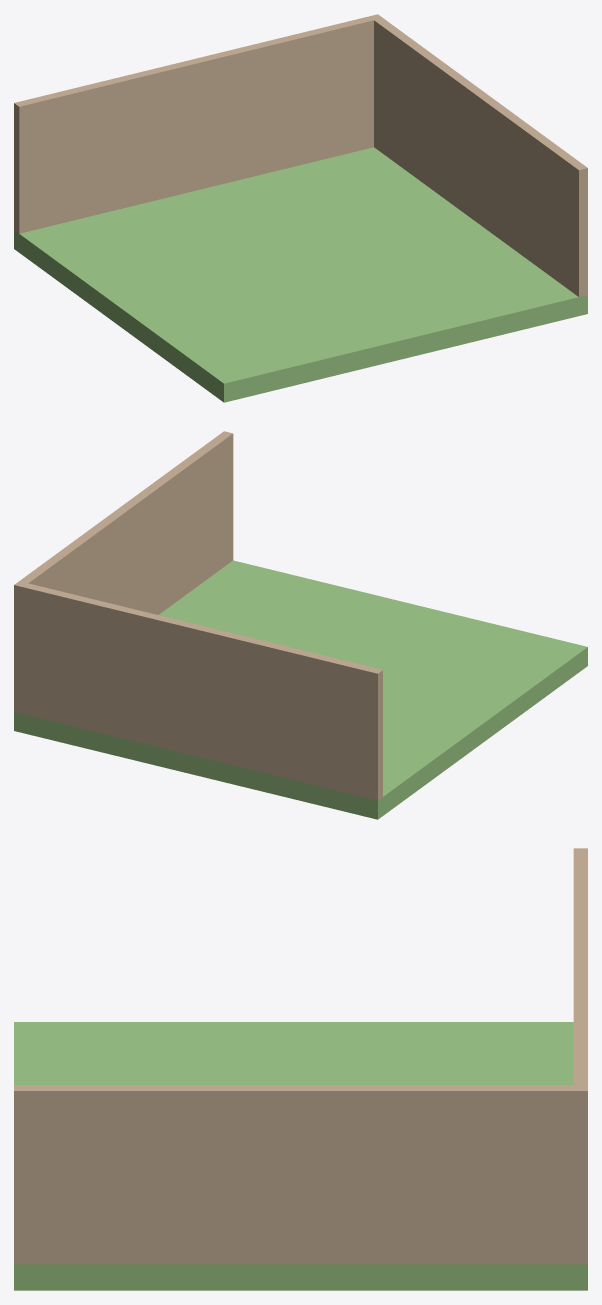
3 renders of one model, top to bottom at view 1: azimuth 30°, elevation 25°; view 2: azimuth 150°, elevation 25°; view 3: azimuth 270°, elevation 25°, orthographic. The views are drawn at different scales.
Parts seen in each view (by area): view 1: Ground, Wall_Back, Wall_Right; view 2: Wall_Back, Ground, Wall_Right; view 3: Wall_Right, Ground, Wall_Back.
Part boxes in pixels (x1=…): Ground: x1=14, y1=147, x2=587, y2=402; Wall_Back: x1=14, y1=14, x2=382, y2=233; Wall_Right: x1=374, y1=18, x2=587, y2=296; Wall_Back: x1=14, y1=581, x2=382, y2=800; Ground: x1=14, y1=560, x2=587, y2=819; Wall_Right: x1=19, y1=431, x2=233, y2=614; Wall_Right: x1=14, y1=1085, x2=573, y2=1264; Ground: x1=14, y1=1022, x2=587, y2=1290; Wall_Back: x1=573, y1=848, x2=587, y2=1264.
Size of the model in its own units: 1200 by 460 by 1200.
